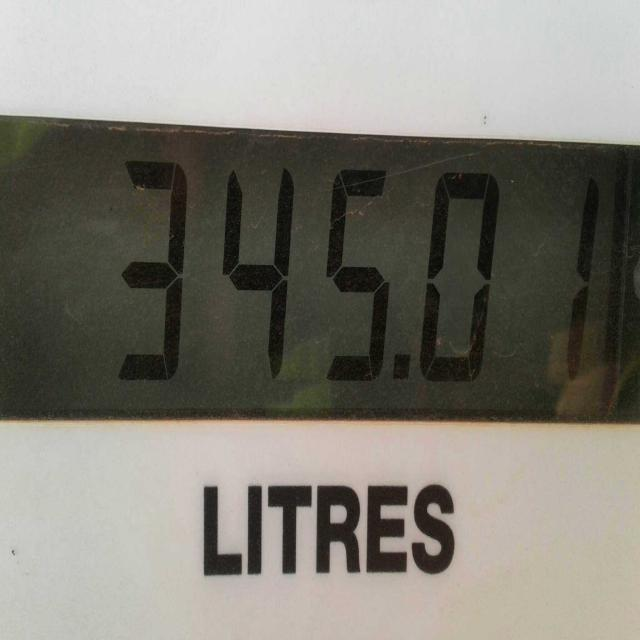.: (391, 339, 420, 394)
0: (419, 166, 503, 397)
1: (552, 170, 623, 398)
3: (124, 150, 192, 383)
4: (213, 159, 297, 383)
5: (320, 170, 390, 381)
